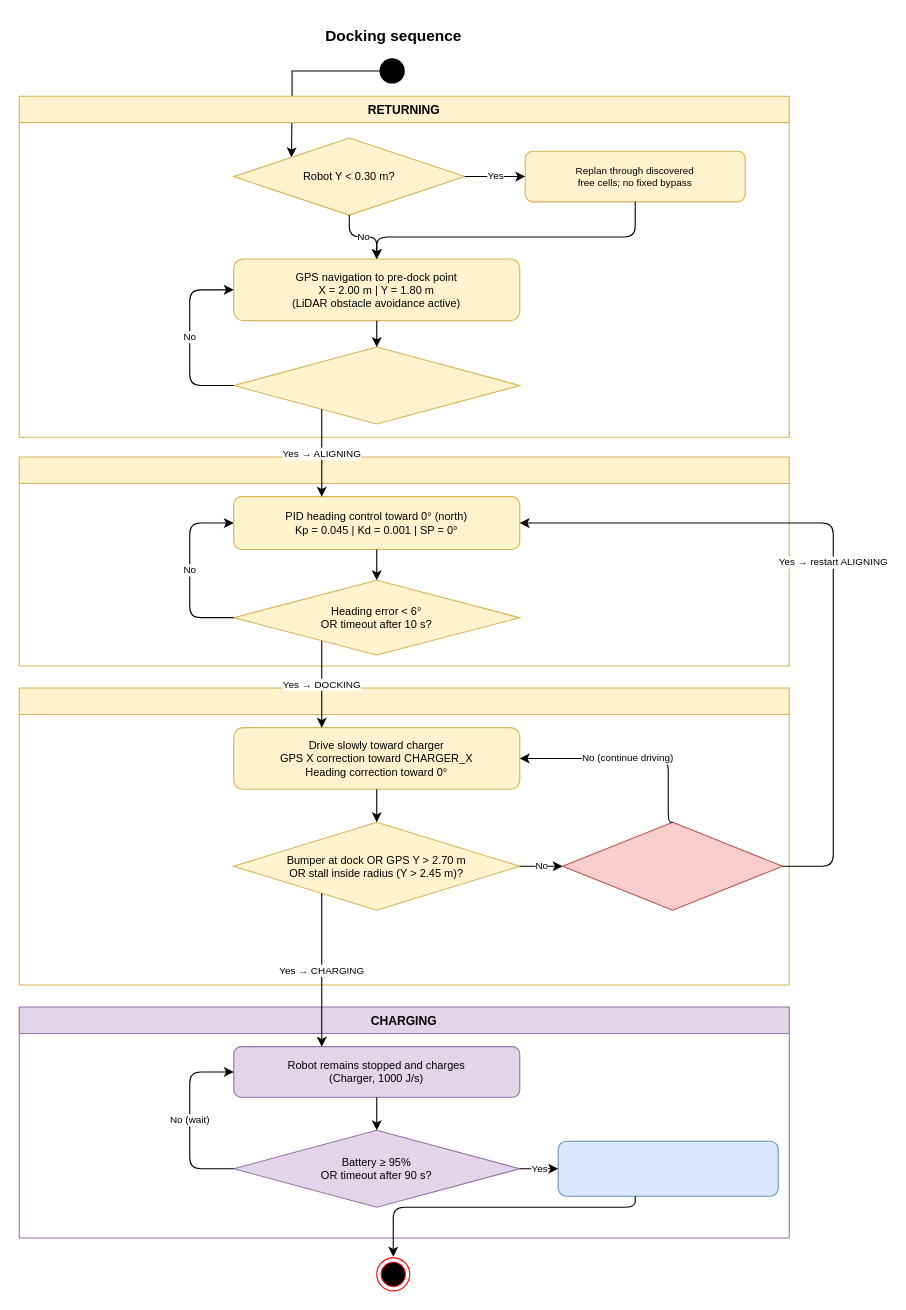
Image size: 906x1310. Some labels were removed from this diagram. The shapes that lost their labels are listed below. From the top down, each one's box as (x1, y1, x2, y2) in pixels, then its label:
(233, 346, 520, 424): Pre-dock reached? (ΔX < 0.06 m; ΔY < 0.25 m)
(18, 456, 789, 666): ALIGNING
(18, 687, 789, 985): DOCKING
(562, 821, 783, 910): Stall outside radius OR timeout after 45 s?
(557, 1140, 778, 1196): Start UNDOCKING (switch VACUUMING↔MOPPING only after the phase is complete)
